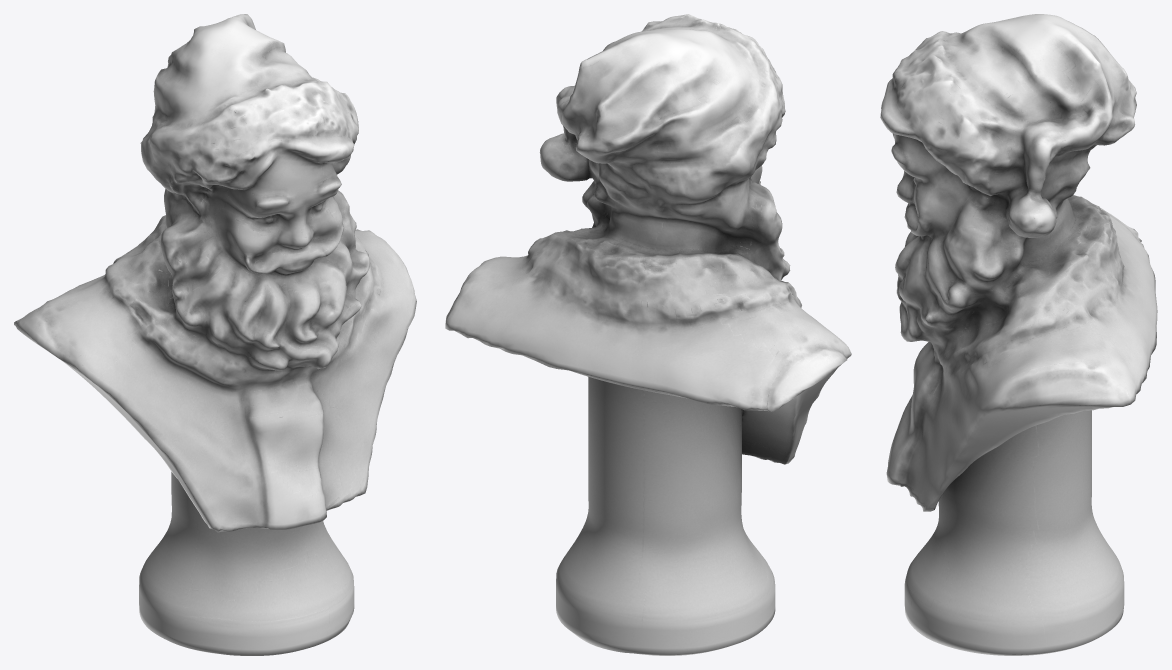
The picture shows the model from 3 angles, left to right: view 1: azimuth 30°, elevation 25°; view 2: azimuth 150°, elevation 25°; view 3: azimuth 270°, elevation 25°; orthographic projection. The views are drawn at different scales.
Visible parts, largest first — view 1: 1_low; view 2: 1_low; view 3: 1_low.
Boxes of the visible parts, <box> form: 1_low: <box>14,14,416,655</box>; 1_low: <box>445,14,851,655</box>; 1_low: <box>880,14,1157,655</box>.
Bounding box in the file's own units: 0.5416 × 0.8246 × 0.3514.
Materials: 1 (1 with a texture image).
